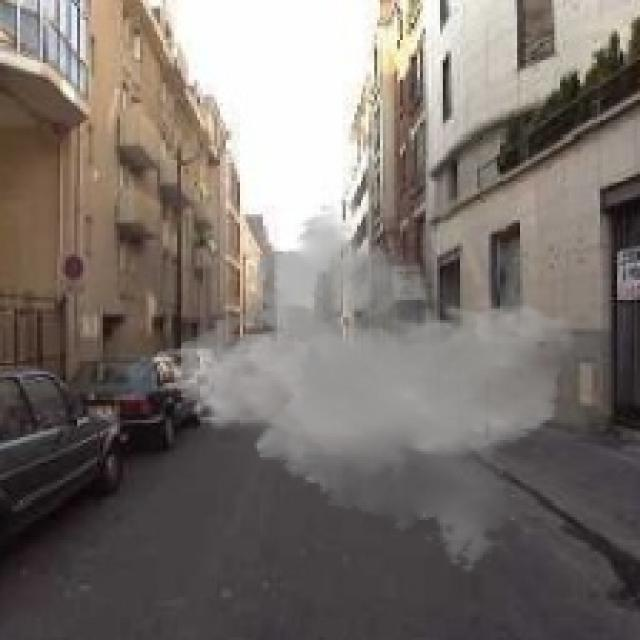smoke: (172, 203, 577, 574)
